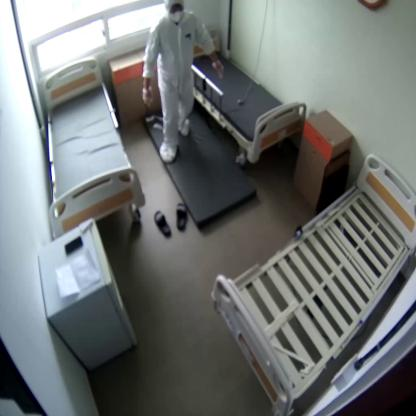Person: (142, 0, 225, 161)
